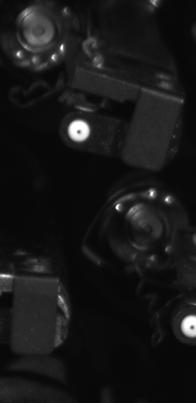fiber: (66, 118, 94, 144), (177, 309, 196, 339)
